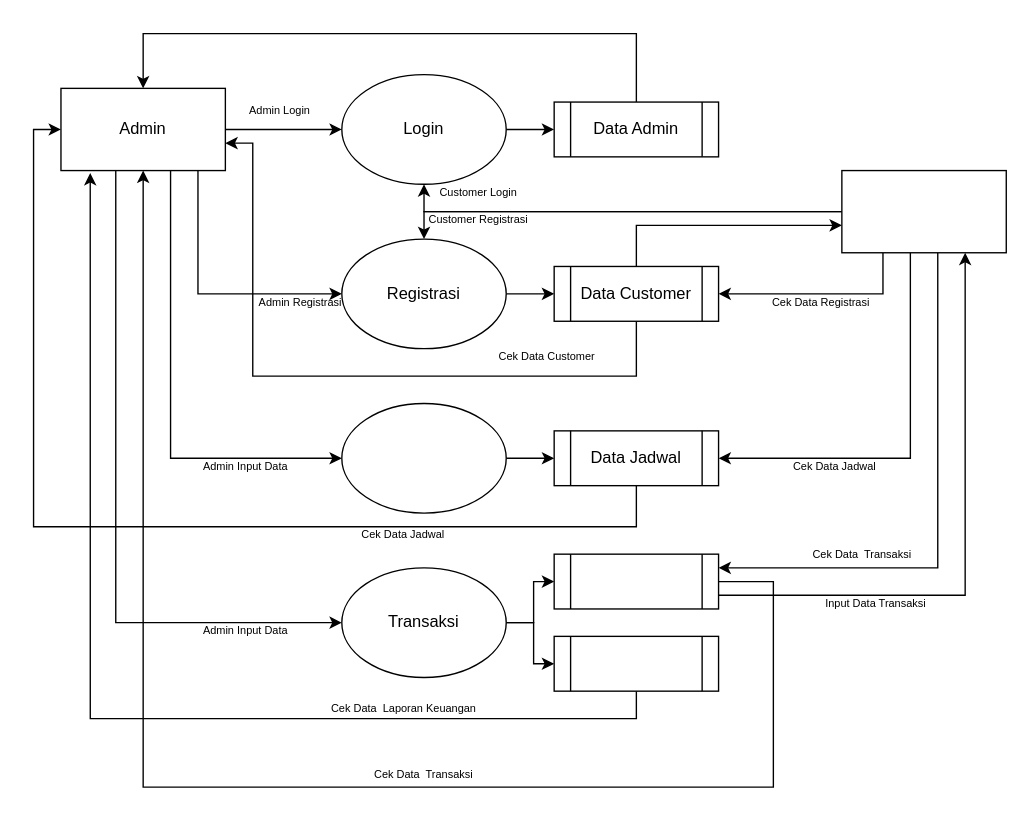
The diagram is 1030 pixels wide and 822 high, and some of its shapes have lost their labels. Here are the shapes that lost their labels. From the top down, the centre of each, then its label:
At [923,211]: "Customer".
At [423,457]: "Informasi Jadwal".
At [636,581]: "Data Transaksi".
At [636,663]: "Laporan Keuangan".
